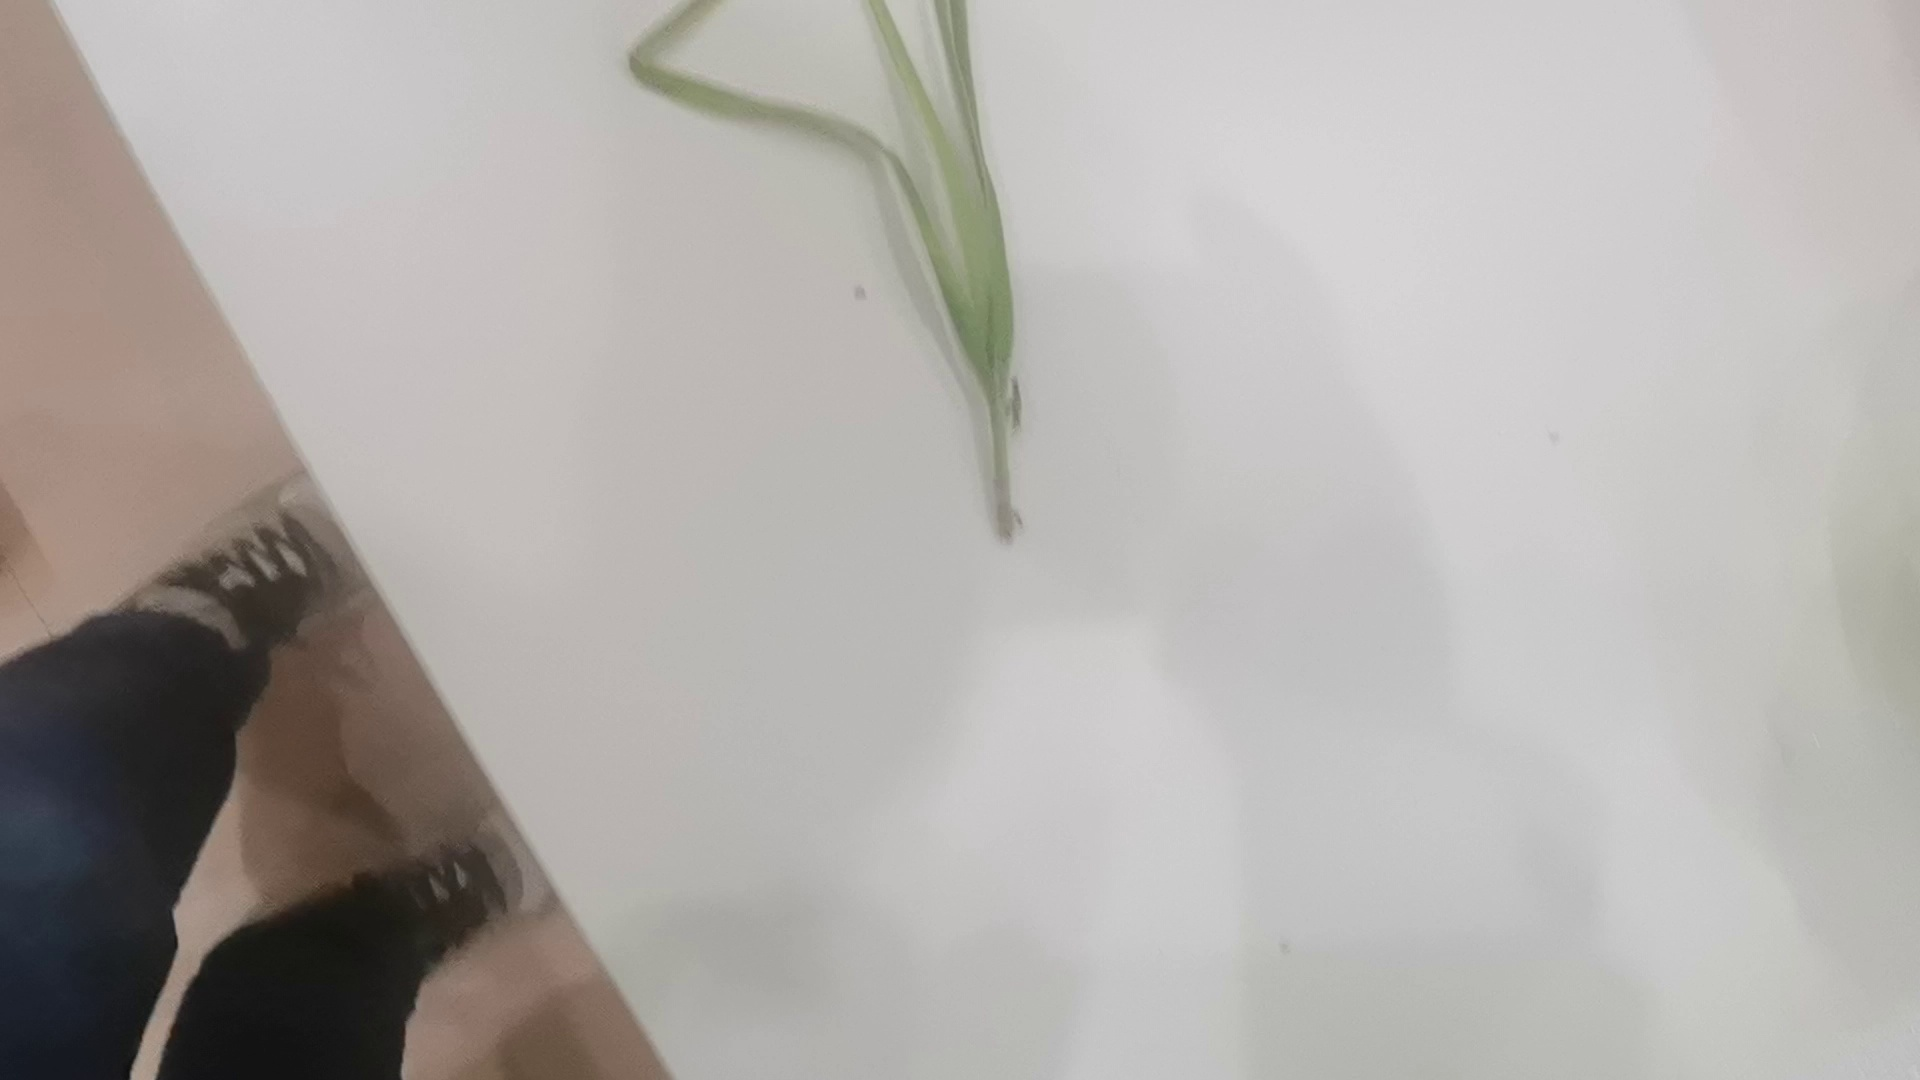chives: (632, 7, 1031, 549)
